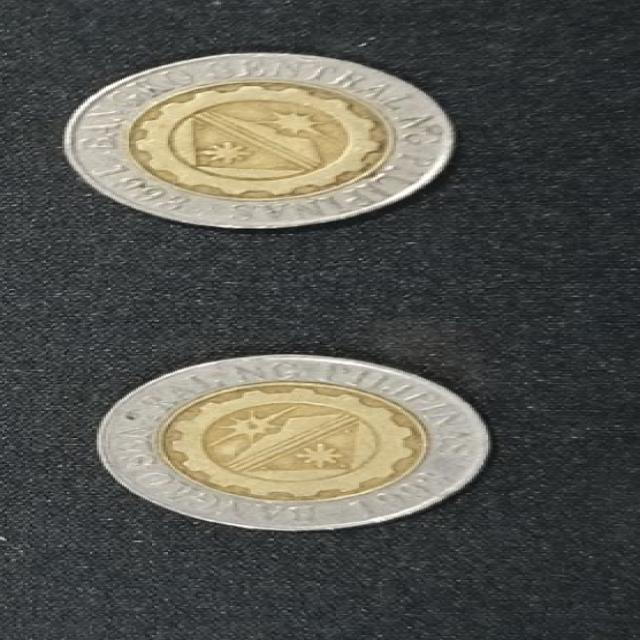10_peso: (99, 354, 488, 529), (64, 54, 454, 228)
